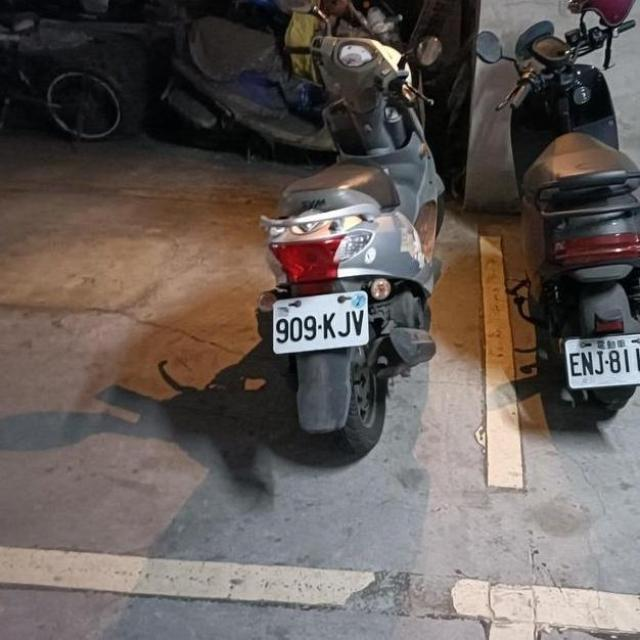W: (268, 283, 374, 358), (558, 323, 640, 394)
